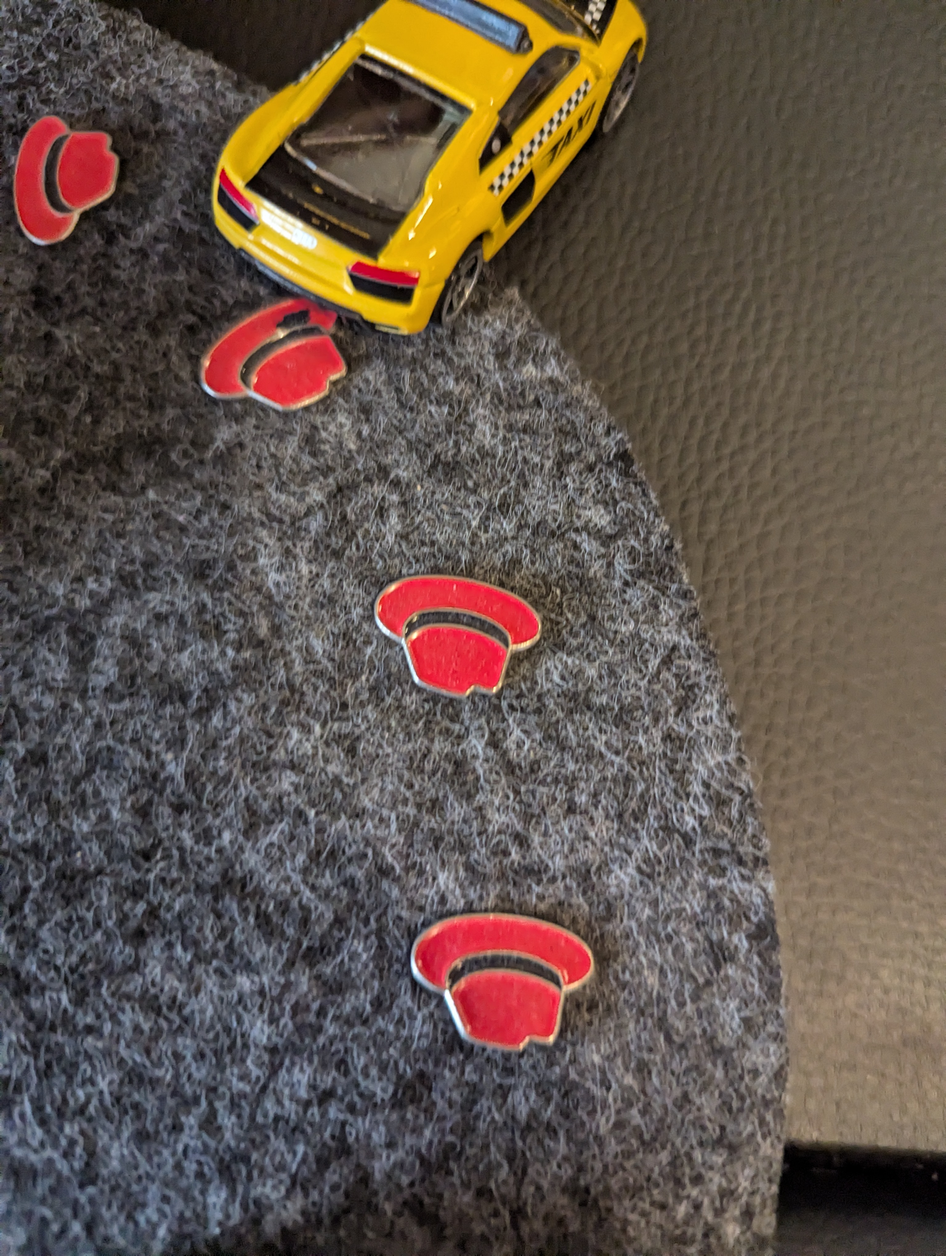Car: (177, 0, 656, 348)
Red-Hat: (392, 898, 635, 1095), (342, 559, 594, 713), (178, 270, 374, 432), (8, 92, 138, 272)
Scratch: (262, 296, 324, 340)
